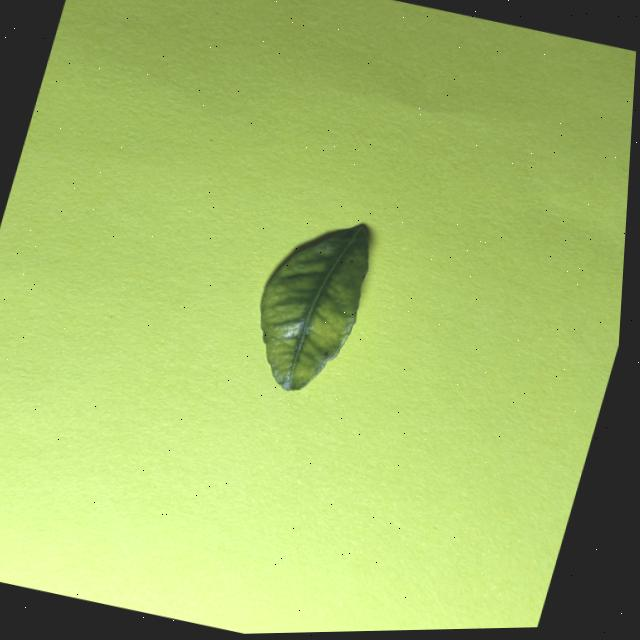greening: (260, 225, 368, 390)
